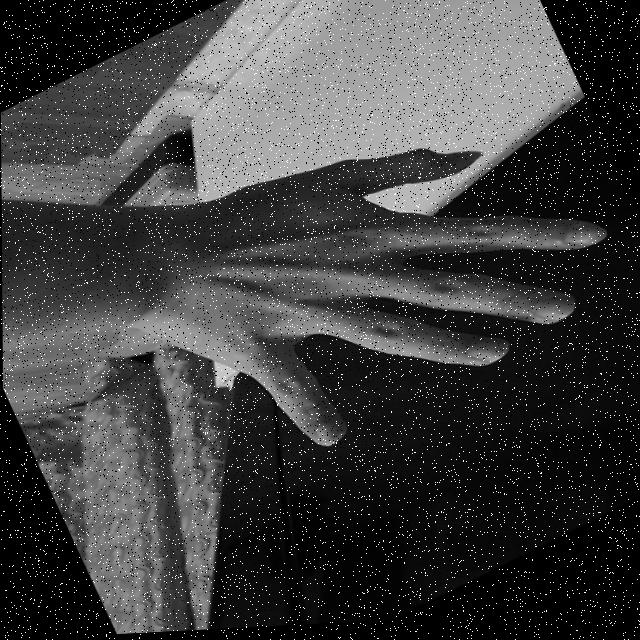hand: (114, 62, 639, 508)
